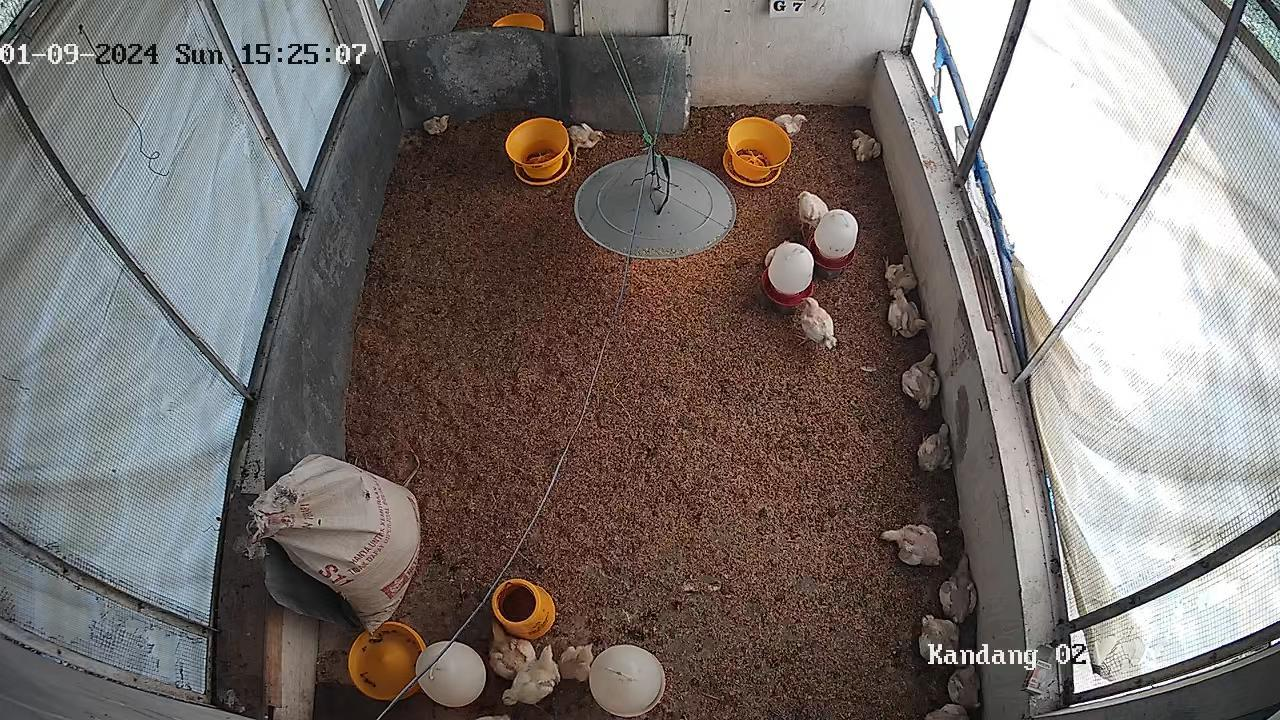chicken: (500, 643, 562, 707), (487, 618, 537, 684), (877, 524, 943, 568), (940, 554, 978, 625), (918, 612, 968, 665), (900, 350, 941, 412), (887, 286, 929, 340), (798, 296, 837, 351), (917, 420, 953, 473), (950, 661, 982, 711), (883, 253, 919, 296), (558, 643, 594, 683), (796, 190, 828, 228), (851, 127, 882, 163), (566, 122, 606, 149), (772, 113, 809, 138), (923, 702, 969, 720), (422, 114, 451, 136)
